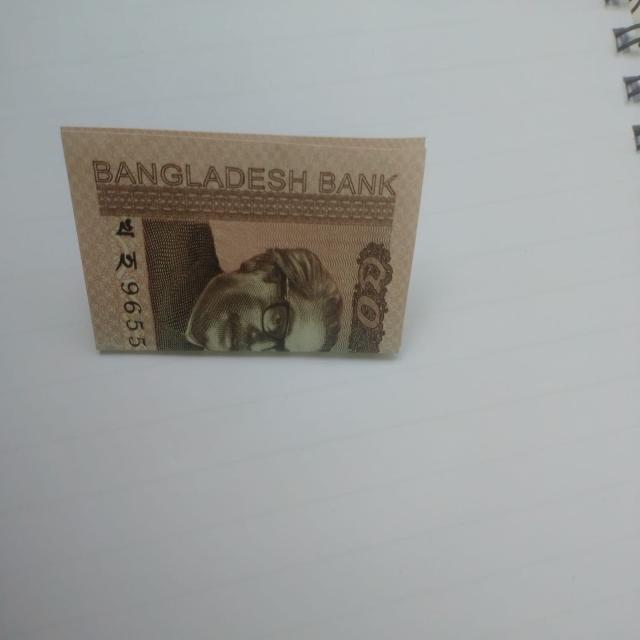Taka: (56, 107, 428, 373)
